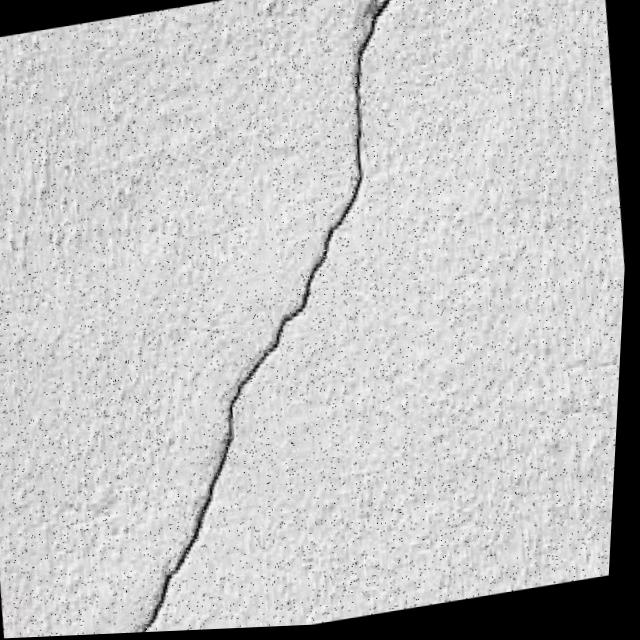Crack: (50, 0, 496, 637)
